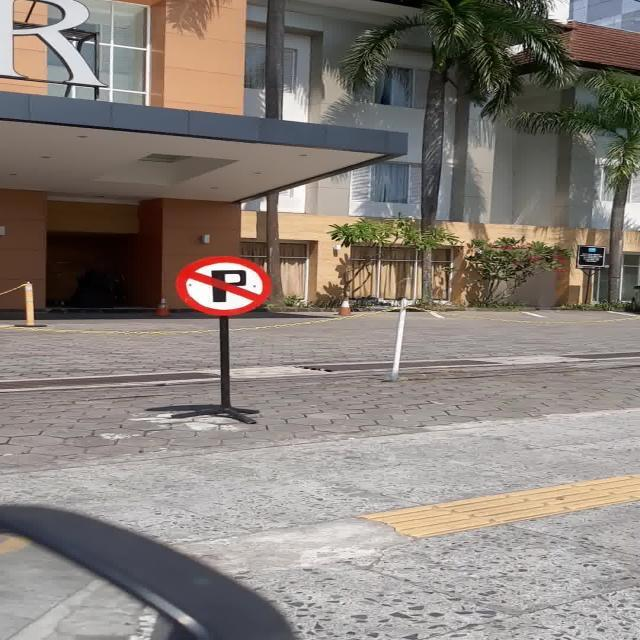Dilarang Parkir: (174, 256, 272, 316)
